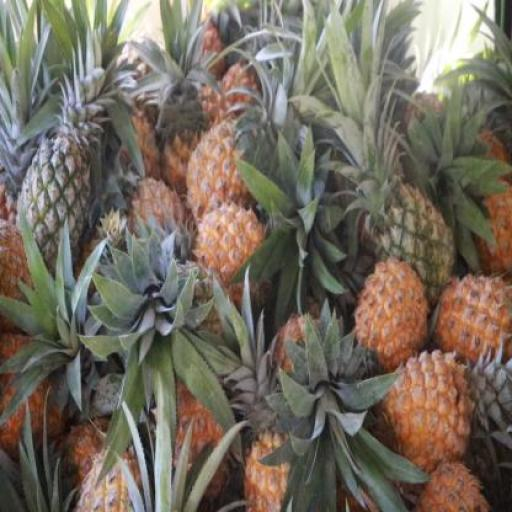Pineapple - v8 v1: (382, 350, 468, 472), (353, 266, 430, 381), (186, 124, 257, 226), (439, 282, 511, 379), (191, 204, 263, 293)
